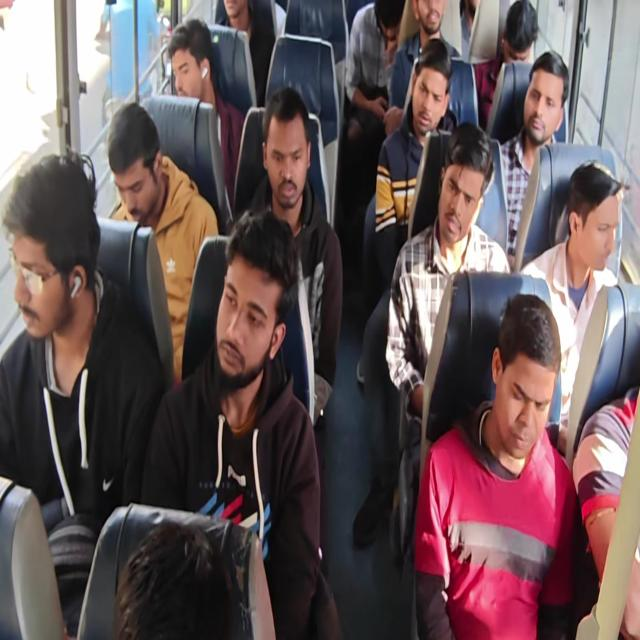person: (13, 184, 96, 329), (489, 321, 555, 463), (210, 244, 268, 397), (558, 165, 626, 275), (255, 99, 313, 212), (109, 120, 159, 212), (516, 62, 560, 150), (166, 27, 218, 100), (441, 140, 474, 242), (412, 71, 447, 137), (506, 11, 538, 72), (368, 0, 401, 52), (409, 0, 445, 47), (219, 0, 251, 35)
